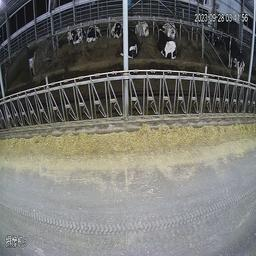cow: (222, 27, 245, 82), (156, 28, 176, 60), (84, 22, 100, 44), (135, 16, 150, 39), (108, 18, 123, 40), (67, 24, 84, 43), (206, 25, 220, 47), (165, 16, 178, 38)
